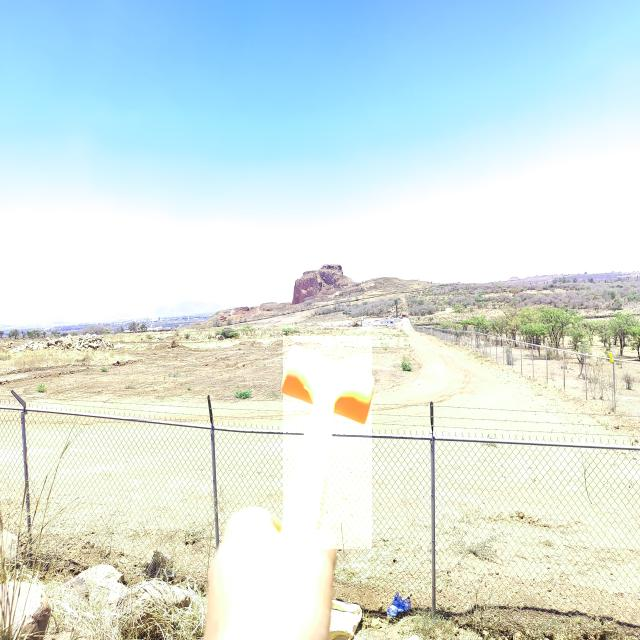Orange_hammer: (283, 336, 372, 549)
